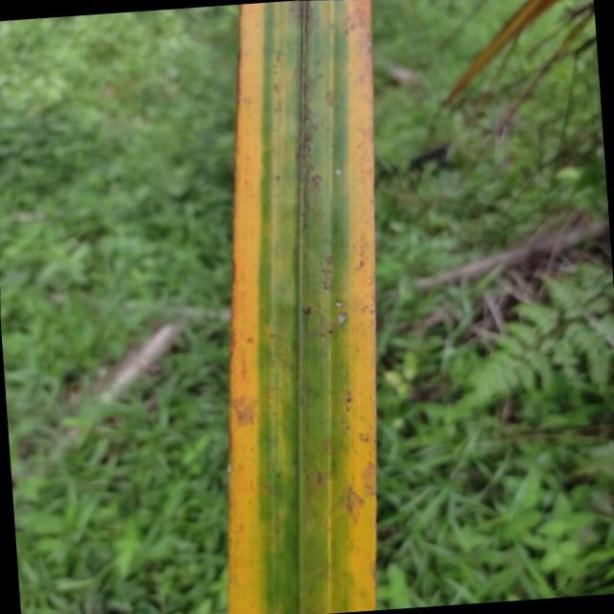Megnesium: (232, 0, 379, 614)
